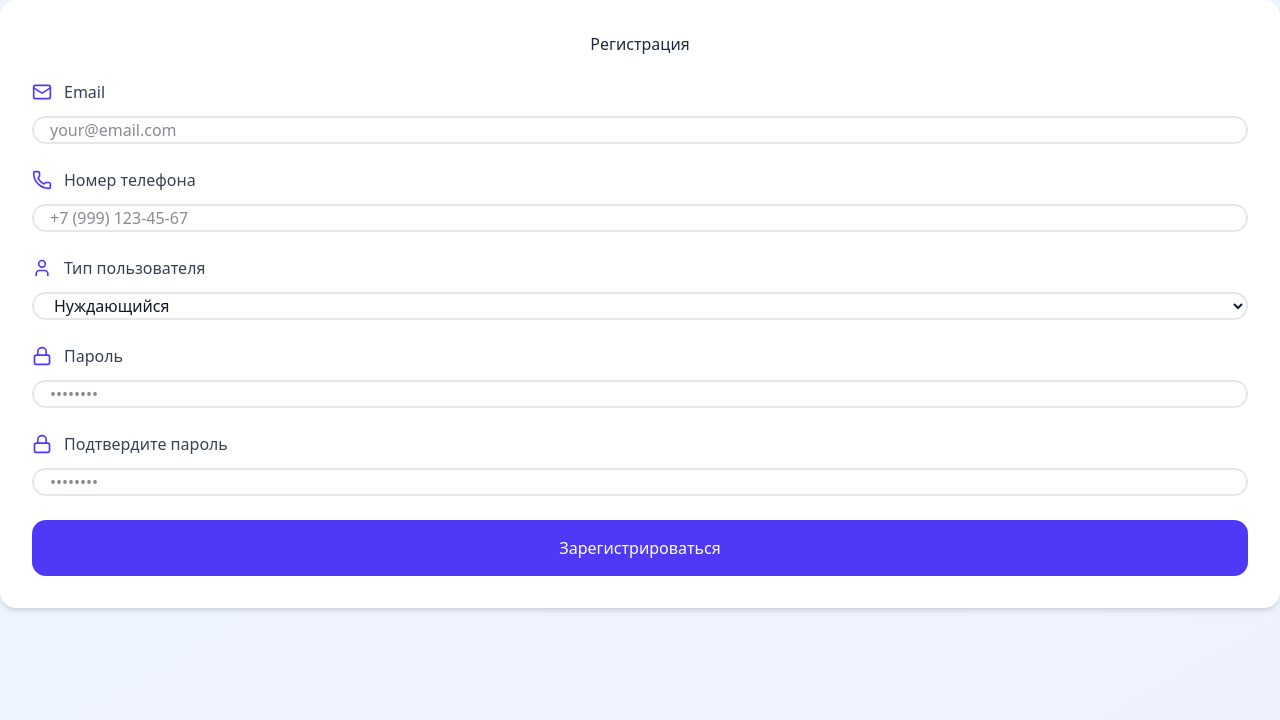
Scenario: Register › shows validation error when passwords do not match
Type "new@test.local" into the field with placeholder "your@email.com" at (640, 130), box top-left (32, 116), bottom-right (1248, 144)
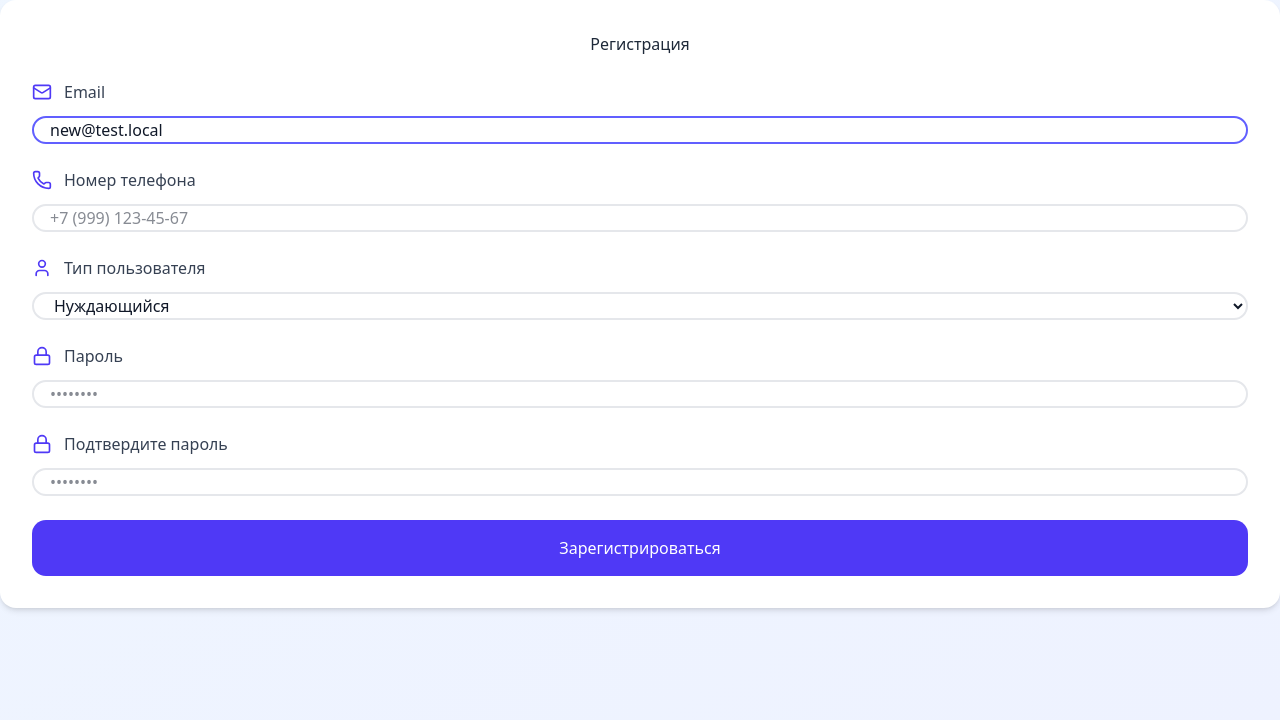
Type "+79991234567" into the field with placeholder "+7 (999) 123-45-67" at (640, 218), box top-left (32, 204), bottom-right (1248, 232)
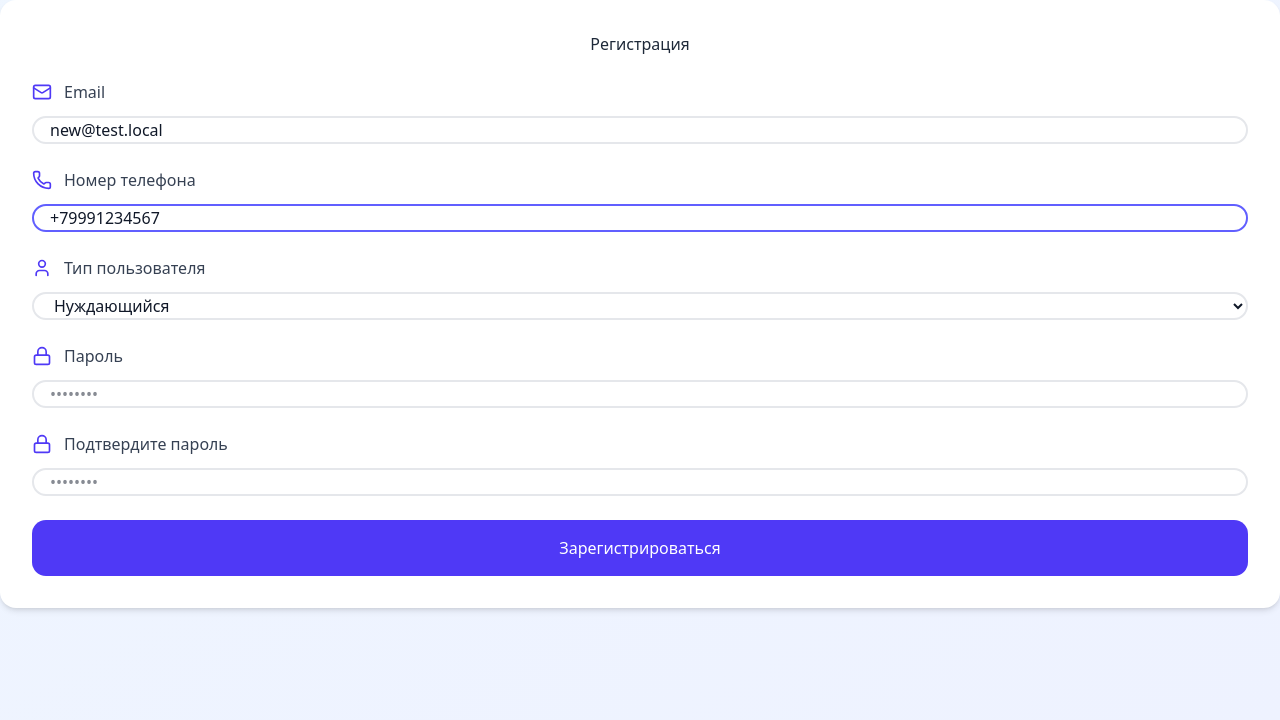
Type "secret123" into the 1st password field with placeholder "••••••••" at (640, 394), box top-left (32, 380), bottom-right (1248, 408)
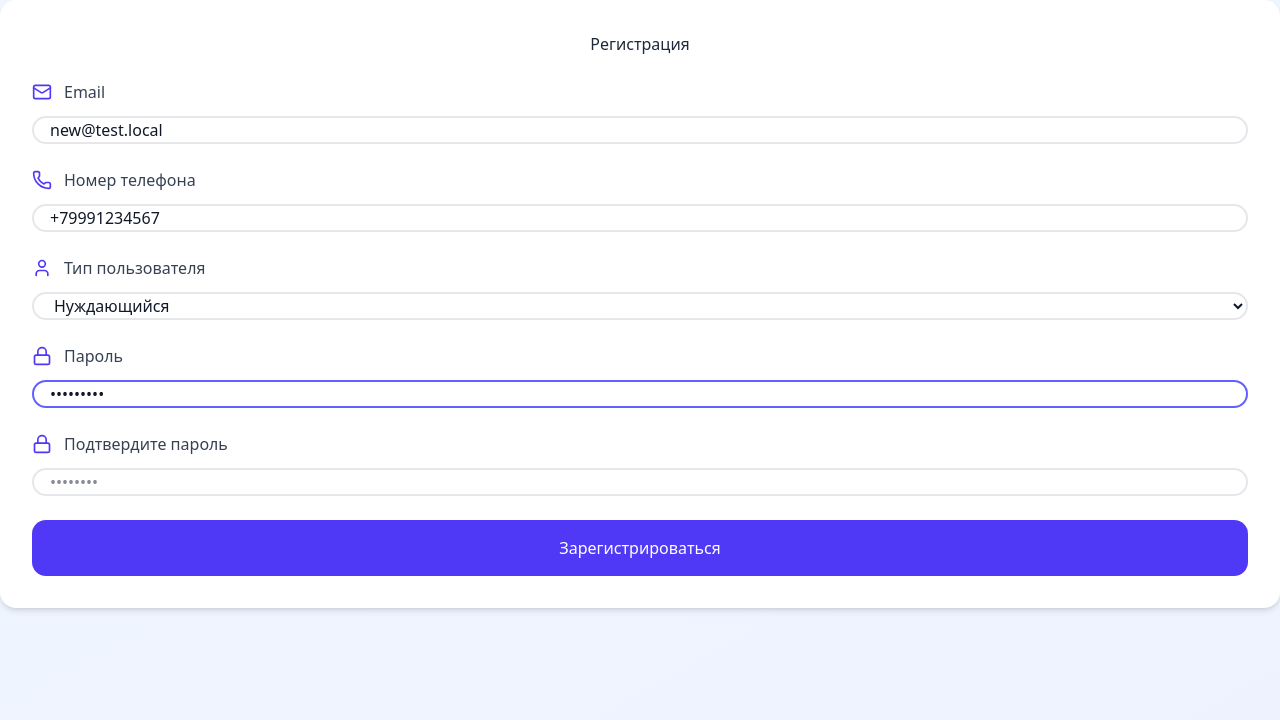
Type "secret321" into the password field with placeholder "••••••••" at (640, 482), box top-left (32, 468), bottom-right (1248, 496)
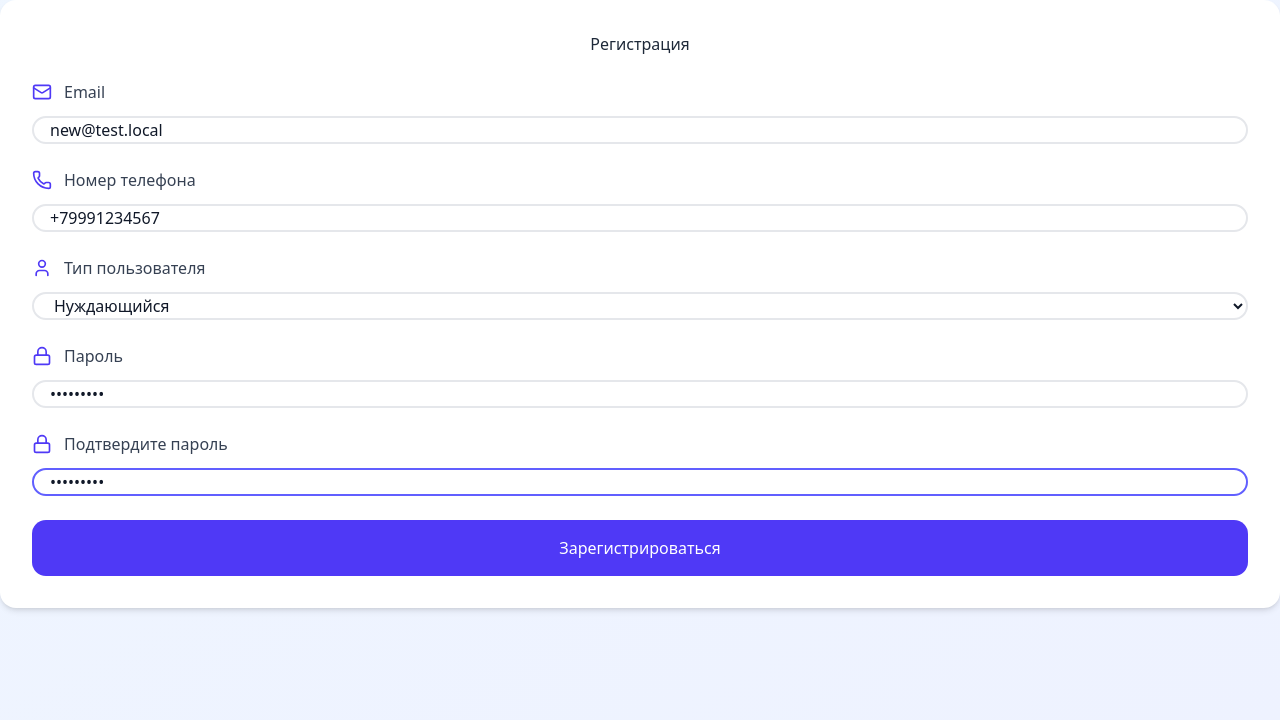
Click the button "Зарегистрироваться" at (640, 548), box top-left (32, 520), bottom-right (1248, 576)
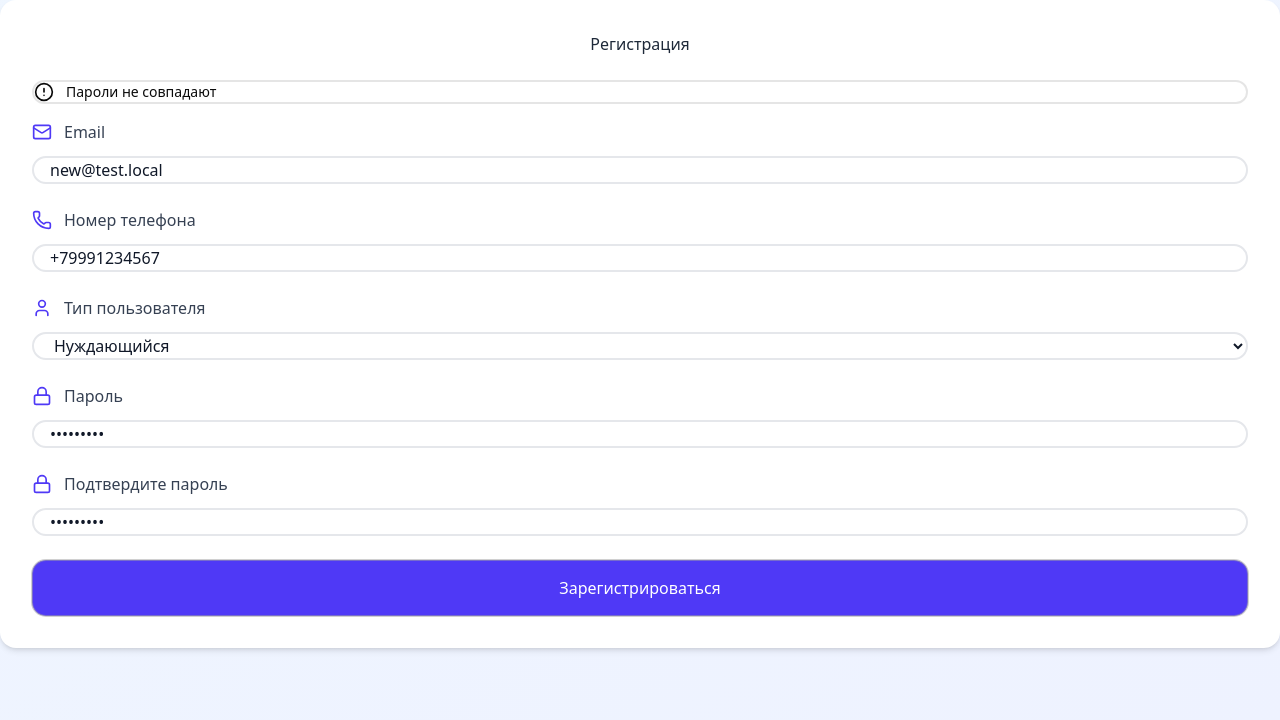
Expected: the text "Пароли не совпадают" is shown, top-left (66, 82), bottom-right (216, 102)
